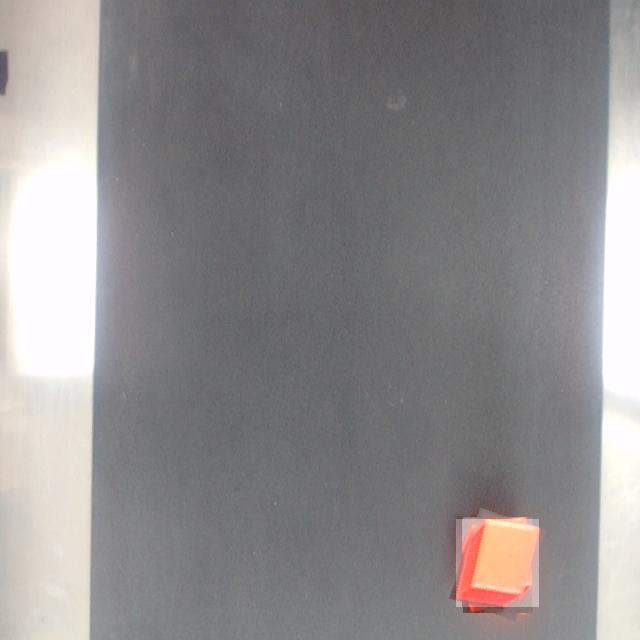Rojo: (456, 520, 539, 607)
